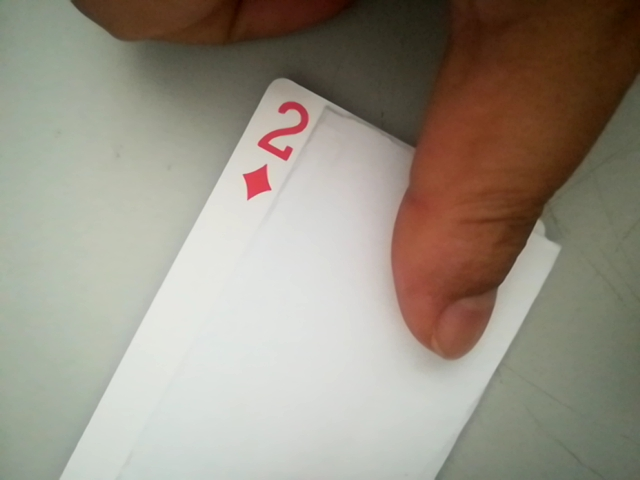fk 2: (236, 93, 324, 205)
